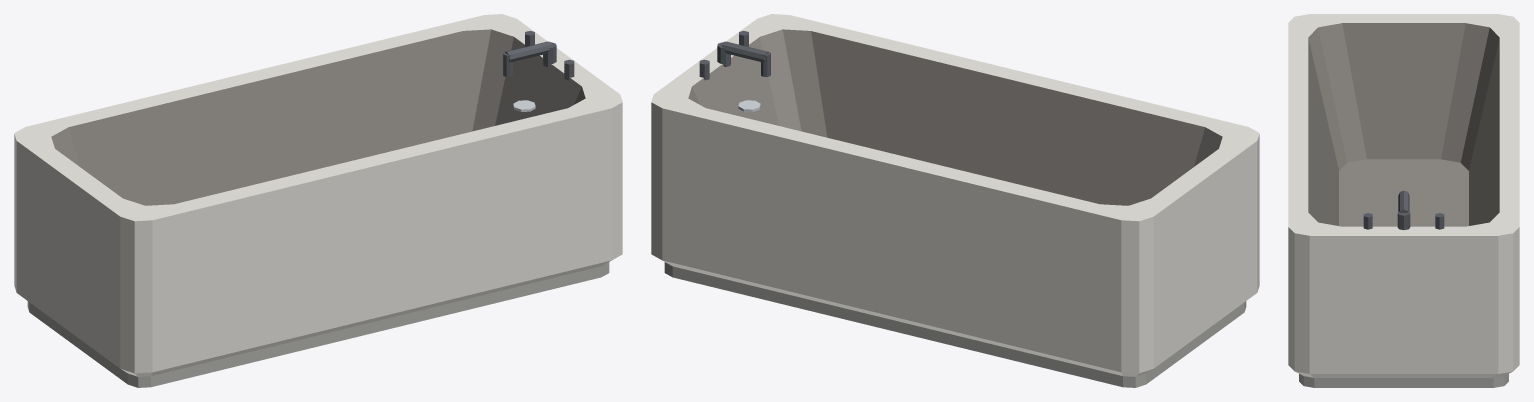
The model's file is FN_Bath_Tub.obj.
3 renders of one model, left to right at view 1: azimuth 30°, elevation 25°; view 2: azimuth 150°, elevation 25°; view 3: azimuth 270°, elevation 25°, orthographic. The views are drawn at different scales.
Visible parts, largest first — view 1: FN_Bath_Tub; view 2: FN_Bath_Tub; view 3: FN_Bath_Tub.
Part boxes in pixels (x1,y1,x2,y2): FN_Bath_Tub: (14,14,622,387); FN_Bath_Tub: (651,14,1259,387); FN_Bath_Tub: (1288,14,1519,387).
Bounding box in the file's own units: 1.7 × 0.624 × 0.75.
1 material, 1 textured.
